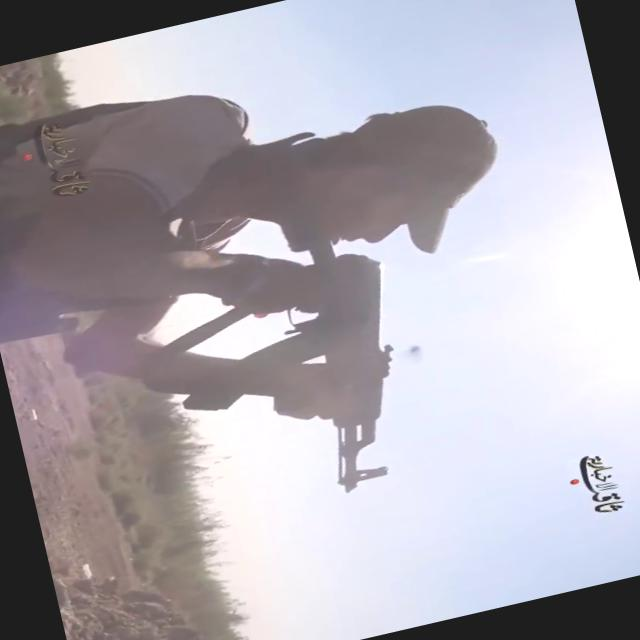long weapon: (140, 236, 438, 522)
